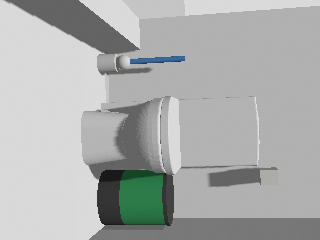lid_1: (160, 96, 180, 174)
